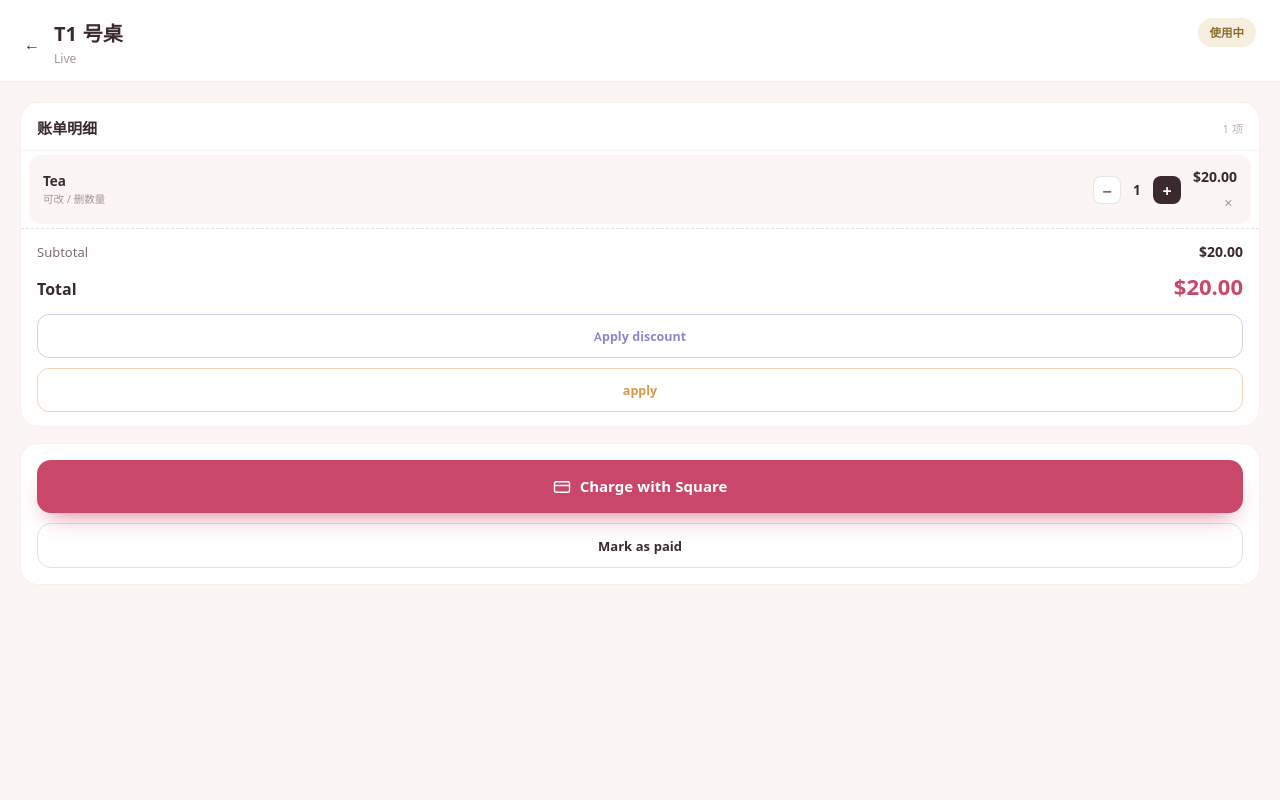
Test: TableDetail — discount disabled when not open › surfaces a 409 not-open error when applying to a non-open bill
The width and height of the screenshot is (1280, 800).
Click the button "Apply discount".
click(640, 336)  # box [37,314,1243,358]
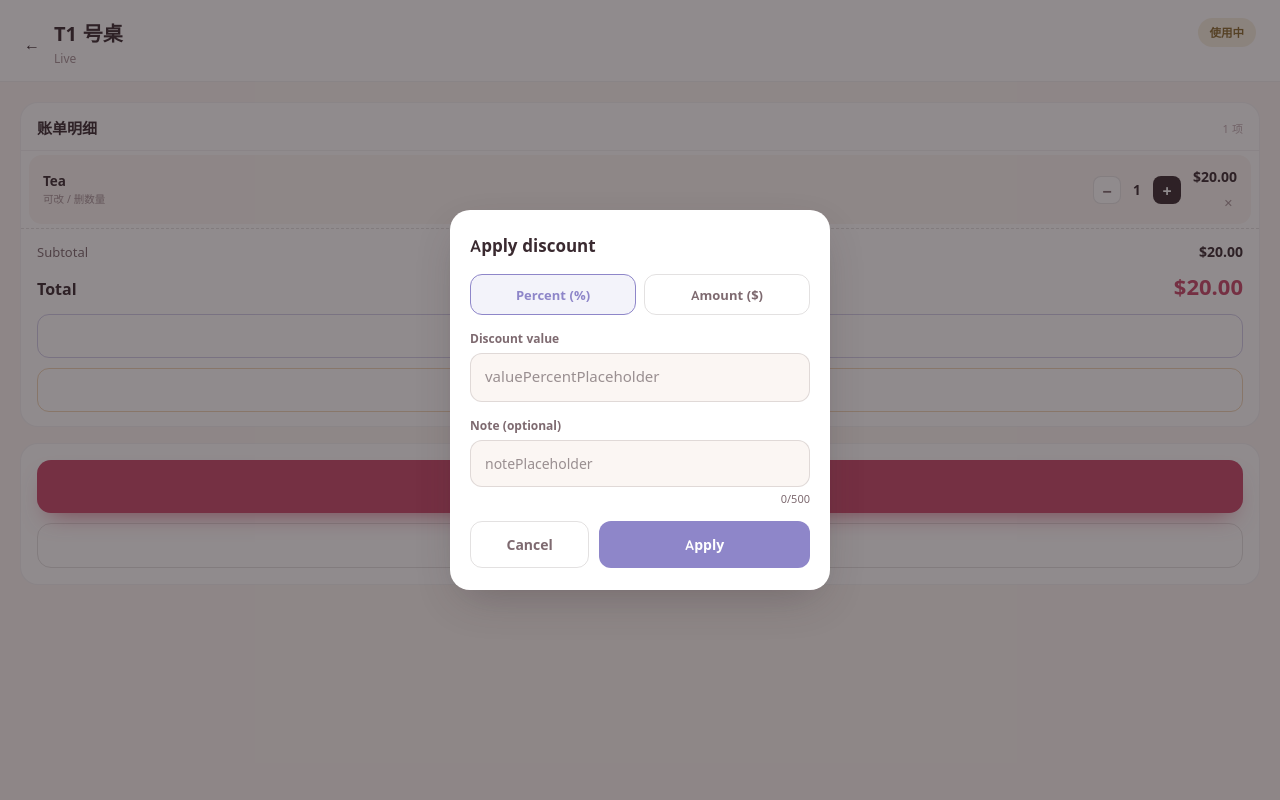
Type "10" into the number field labelled "Discount value".
click(640, 377); type("10")  # box [470,353,810,402]
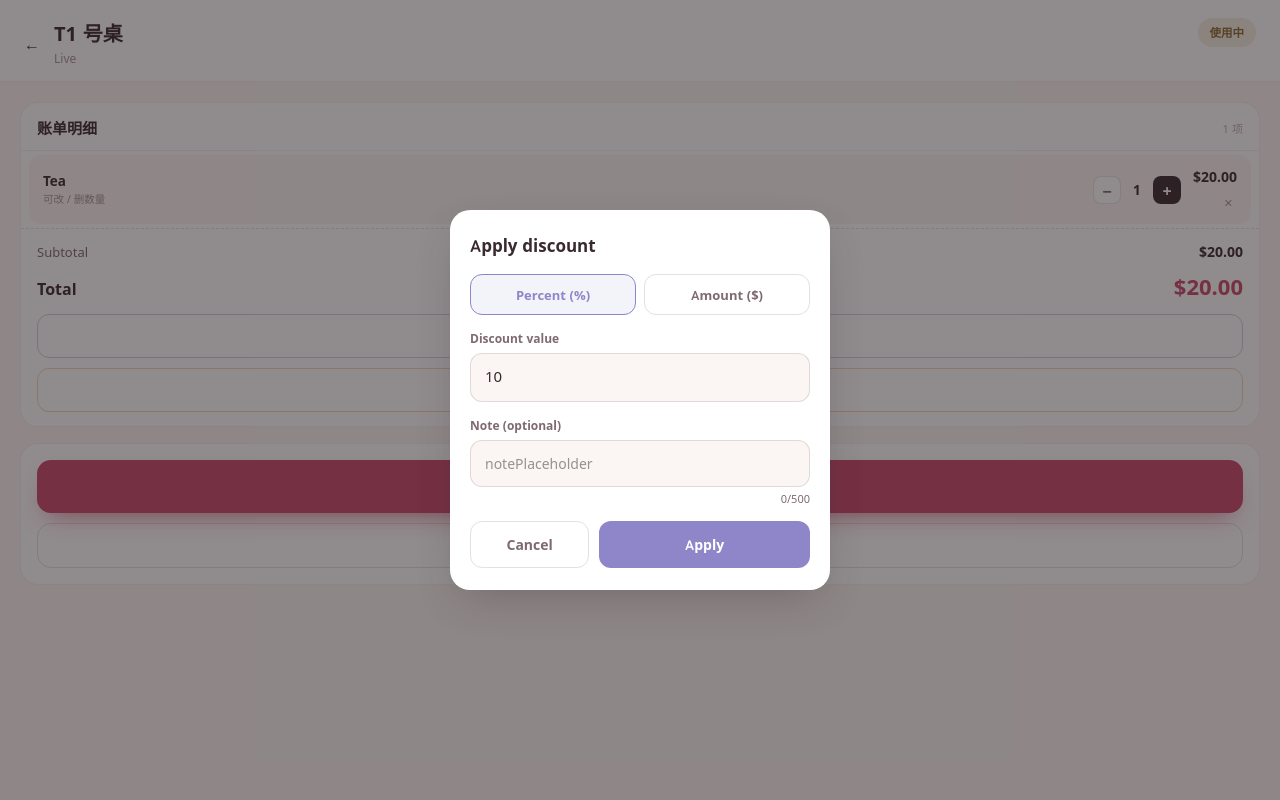
Click the button "Apply".
click(705, 544)  # box [599,521,810,568]
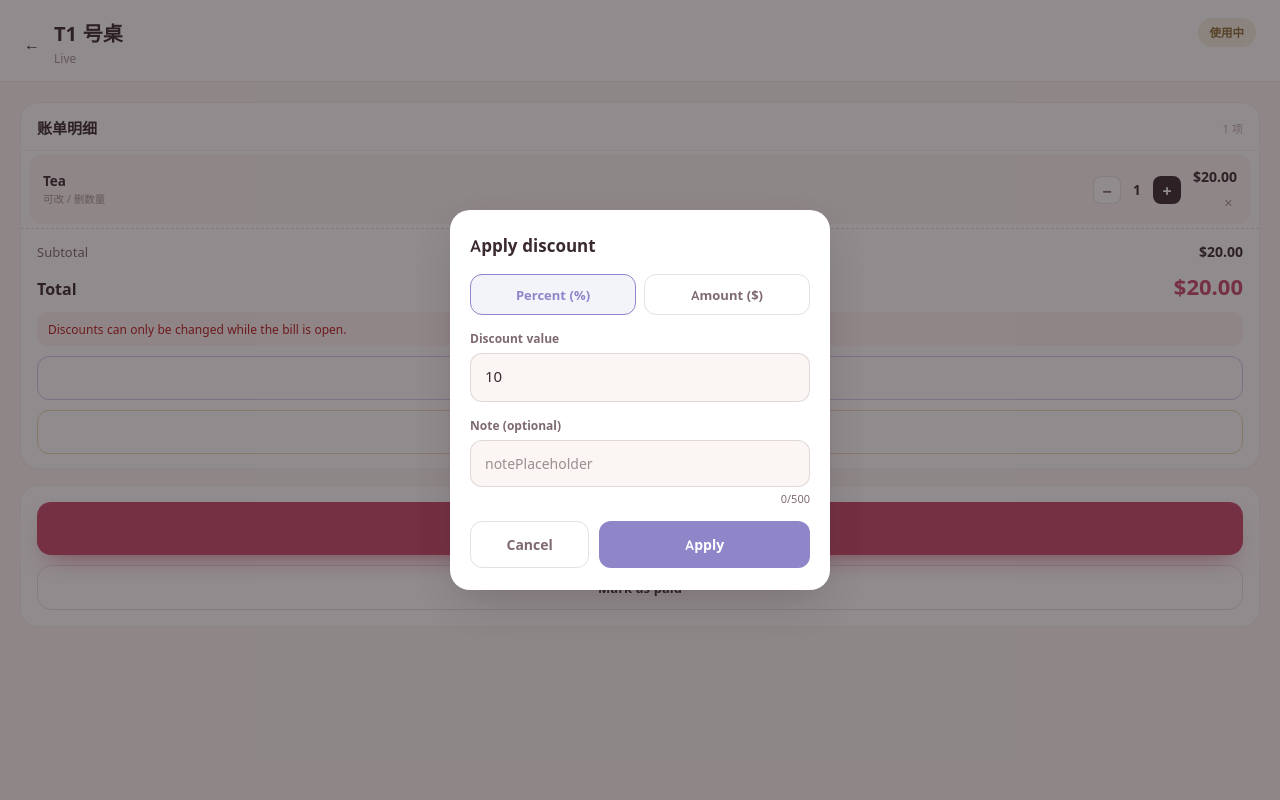
expect the text "Discounts can only be changed while the bill is open." is shown: met, box [37,312,1243,346]
